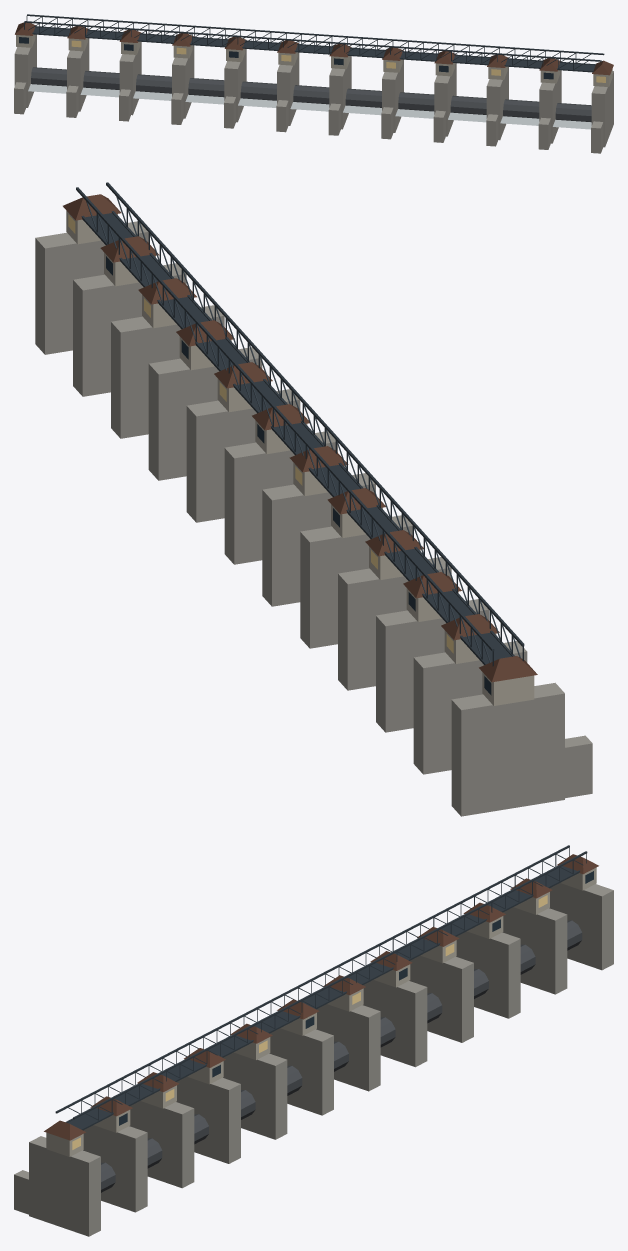
File: lockdam.glb
The picture shows the model from 3 angles, top to bottom: view 1: azimuth 30°, elevation 25°; view 2: azimuth 150°, elevation 25°; view 3: azimuth 270°, elevation 25°; orthographic projection. The views are drawn at different scales.
Parts seen in each view (by area): view 1: lockdam_lod0; view 2: lockdam_lod0; view 3: lockdam_lod0.
Boxes of the visible parts, <box> form: lockdam_lod0: <box>14,14,613,153</box>; lockdam_lod0: <box>35,182,592,816</box>; lockdam_lod0: <box>14,845,613,1236</box>.
Size of what is drawn, in the model's own units: 164 by 27.9 by 140.
